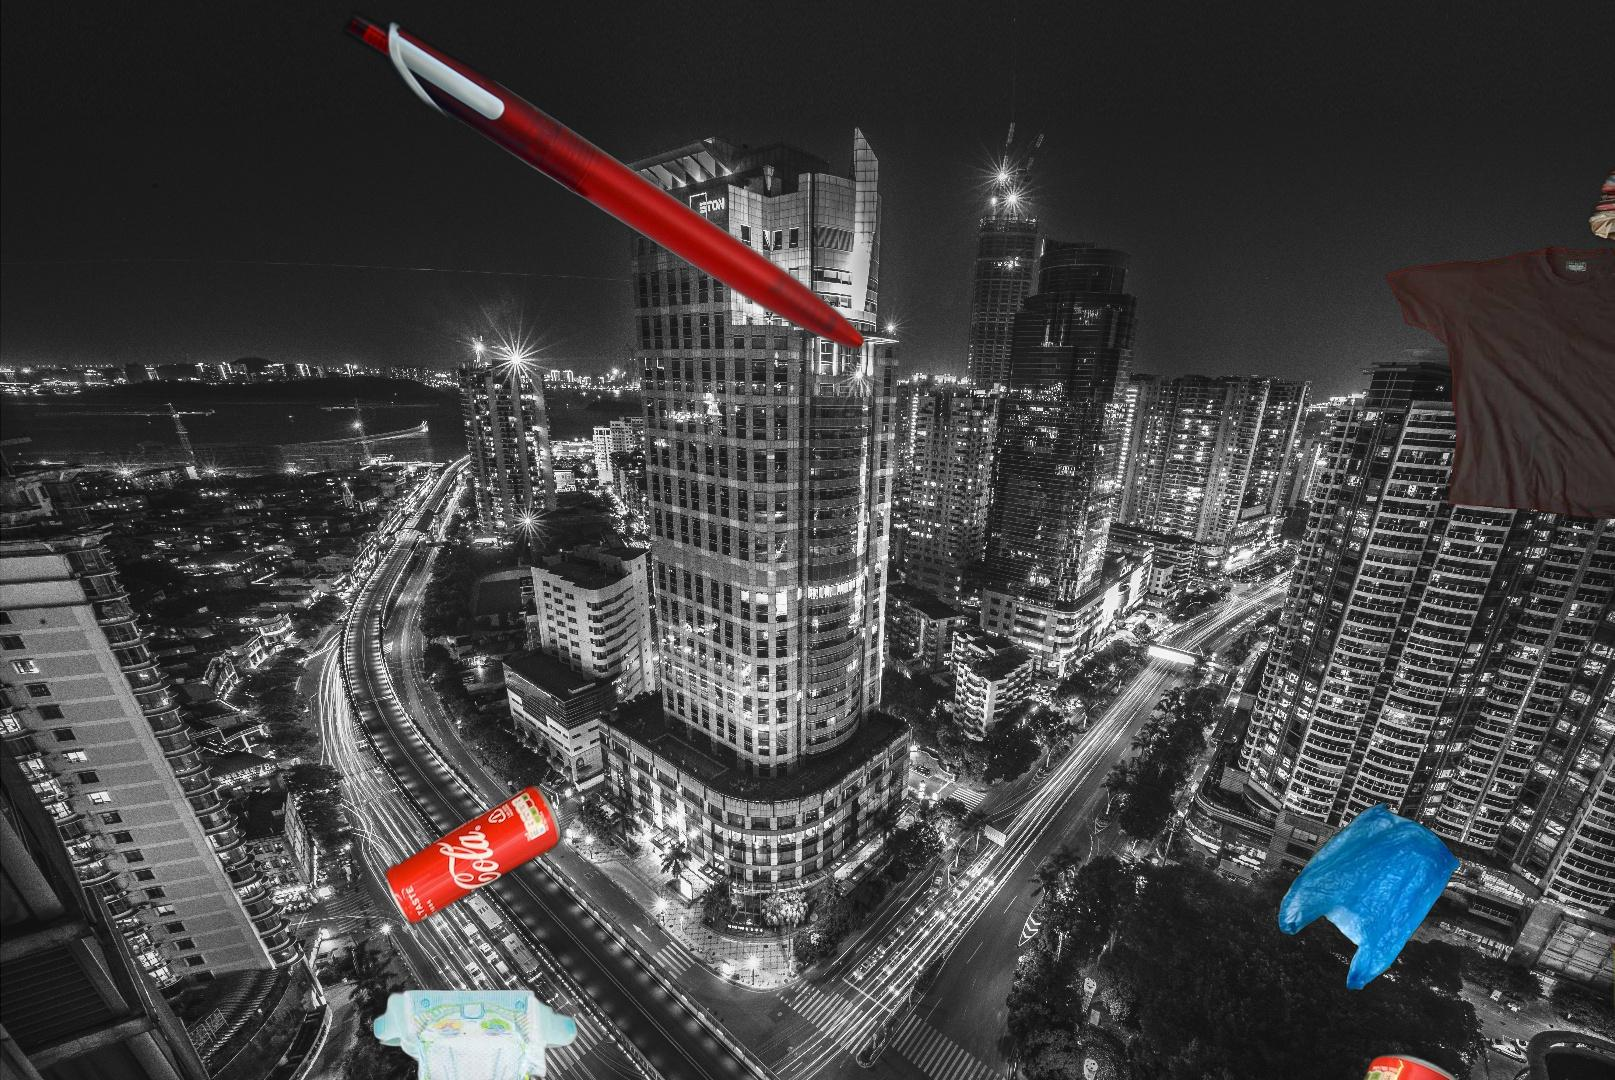clothes: (1384, 243, 1615, 534)
metal-cans: (172, 779, 566, 1080), (1253, 1047, 1481, 1080)
penholder: (264, 5, 874, 450), (1604, 798, 1615, 1080)
plastic-bag: (1272, 800, 1464, 1004)
trash: (371, 987, 581, 1080)
trashbox-cardboard: (1308, 143, 1615, 358)
